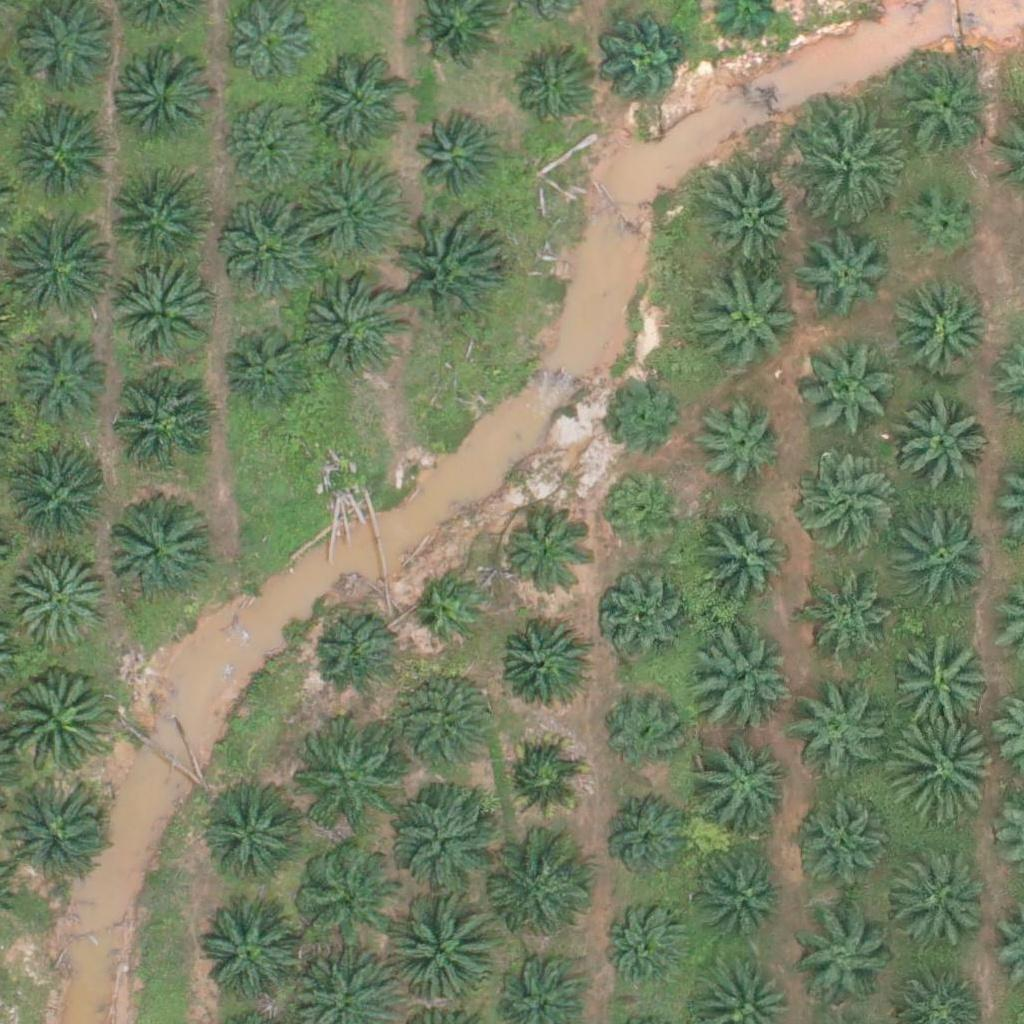Kelapa_Sawit: (791, 110, 904, 224), (387, 890, 500, 1003), (388, 775, 501, 888), (389, 215, 502, 328), (885, 714, 997, 828), (484, 834, 596, 947), (292, 152, 404, 265), (4, 210, 116, 323), (115, 52, 215, 153), (896, 58, 996, 159), (896, 638, 996, 739), (788, 686, 888, 787), (790, 796, 890, 897), (695, 732, 795, 833), (289, 732, 389, 833), (295, 844, 395, 945), (201, 906, 301, 1007), (207, 780, 307, 881), (104, 504, 204, 605), (11, 553, 111, 654), (796, 452, 896, 553), (688, 393, 788, 494), (298, 276, 398, 377), (223, 193, 323, 294), (107, 262, 207, 363), (107, 174, 207, 275), (11, 106, 111, 207), (309, 55, 409, 155), (884, 849, 984, 949), (793, 906, 893, 1006), (694, 513, 794, 613), (697, 629, 797, 729), (396, 667, 496, 767), (9, 455, 109, 555), (892, 279, 992, 379), (892, 392, 992, 492), (891, 507, 991, 607), (800, 337, 900, 437), (704, 167, 804, 267), (695, 273, 795, 373), (113, 372, 213, 472), (9, 331, 109, 431), (228, 98, 316, 187), (604, 21, 692, 109), (810, 583, 898, 671), (697, 849, 785, 937), (598, 470, 686, 558), (602, 688, 690, 776), (603, 800, 691, 888), (603, 905, 691, 993), (311, 608, 399, 696), (509, 48, 596, 136), (600, 571, 687, 659), (502, 512, 589, 600), (498, 617, 585, 705), (498, 735, 585, 823), (801, 234, 888, 322), (600, 371, 687, 459), (415, 117, 502, 205), (224, 324, 311, 412), (414, 574, 489, 650), (905, 183, 980, 259)
